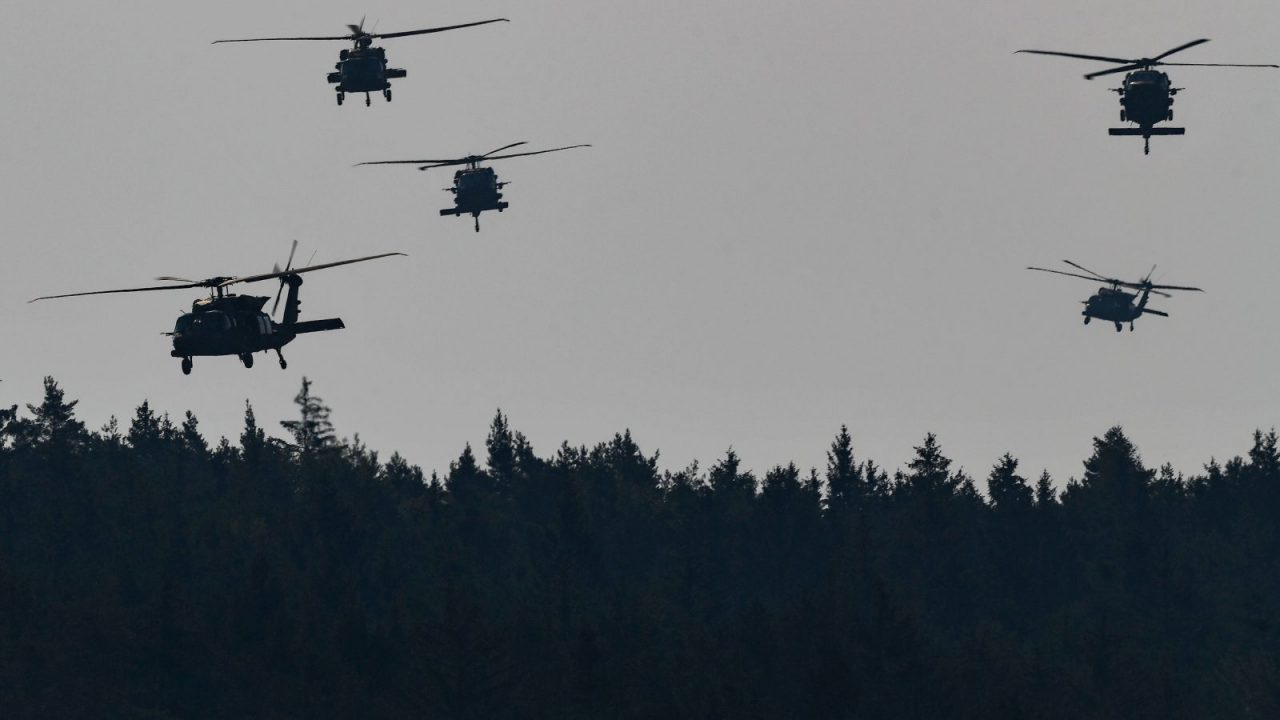heli: (21, 243, 405, 375), (1013, 38, 1277, 152), (212, 16, 511, 109), (355, 140, 591, 232), (1026, 258, 1203, 335)
